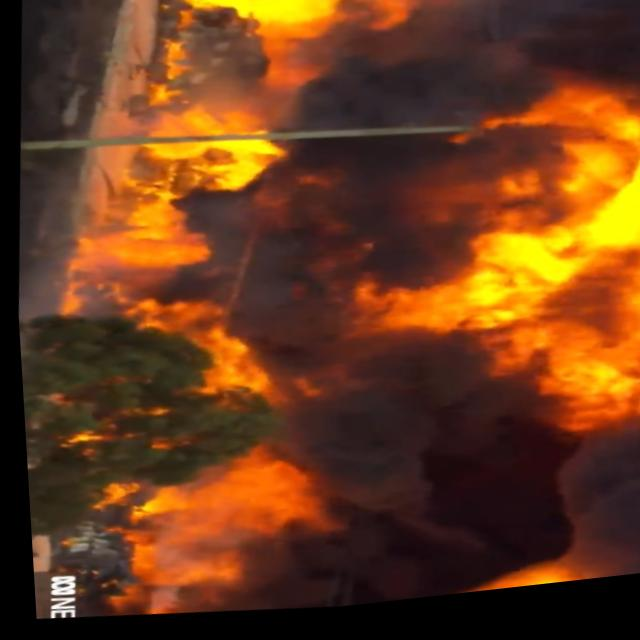Fire: (45, 0, 640, 465)
